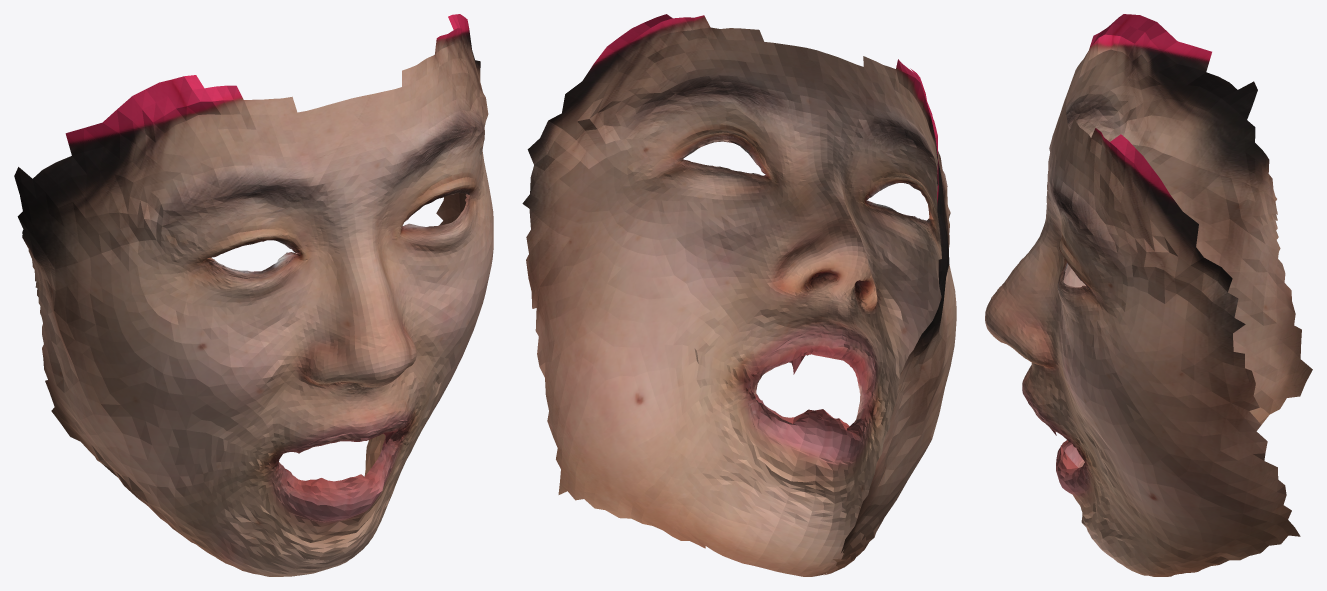
The model's file is 3_mouth_stretch.obj.
3 renders of one model, left to right at view 1: azimuth 30°, elevation 25°; view 2: azimuth 150°, elevation 25°; view 3: azimuth 270°, elevation 25°, orthographic. The views are drawn at different scales.
Bounding box in the file's own units: 177 × 205 × 124.
Materials: 1 (1 with a texture image).
